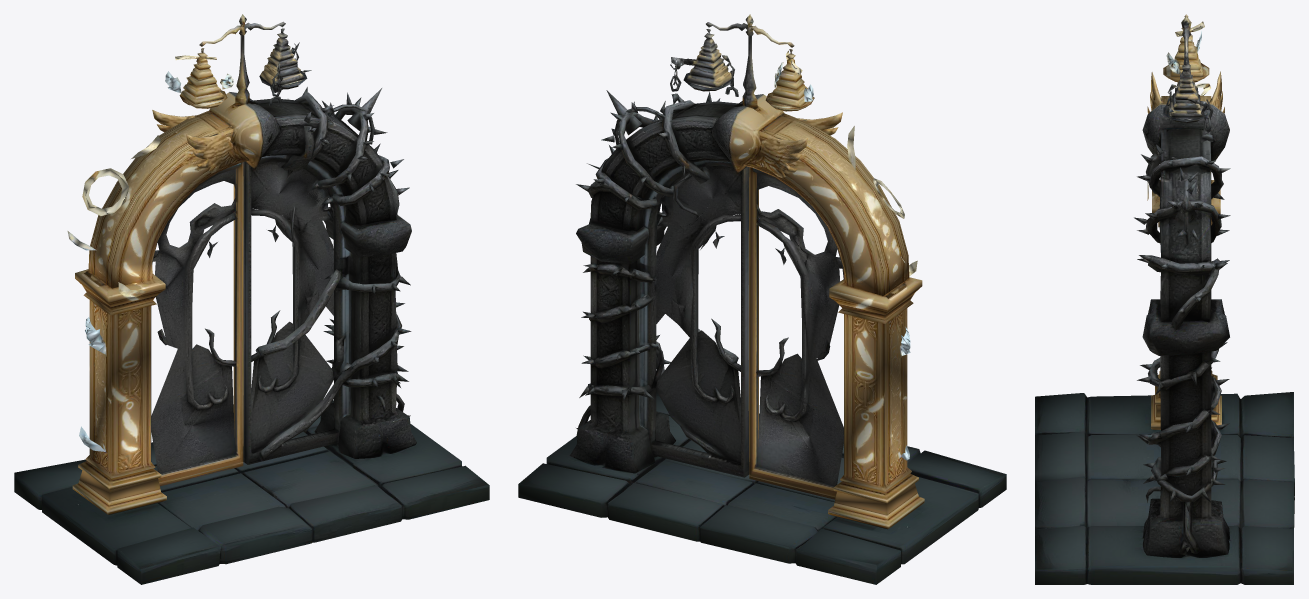
3 renders of one model, left to right at view 1: azimuth 30°, elevation 25°; view 2: azimuth 150°, elevation 25°; view 3: azimuth 270°, elevation 25°, orthographic. The views are drawn at different scales.
Parts seen in each view (by area): view 1: tripo_node_55d05a91-a6a8-49b1-bf55-a7a75c78454e; view 2: tripo_node_55d05a91-a6a8-49b1-bf55-a7a75c78454e; view 3: tripo_node_55d05a91-a6a8-49b1-bf55-a7a75c78454e.
Part boxes in pixels (x1=…): tripo_node_55d05a91-a6a8-49b1-bf55-a7a75c78454e: x1=14, y1=14, x2=489, y2=584; tripo_node_55d05a91-a6a8-49b1-bf55-a7a75c78454e: x1=518, y1=14, x2=1006, y2=584; tripo_node_55d05a91-a6a8-49b1-bf55-a7a75c78454e: x1=1035, y1=14, x2=1294, y2=584.
Size of the model in its own units: 0.7676 by 0.998 by 0.4863.
Materials: 1 (1 with a texture image).
